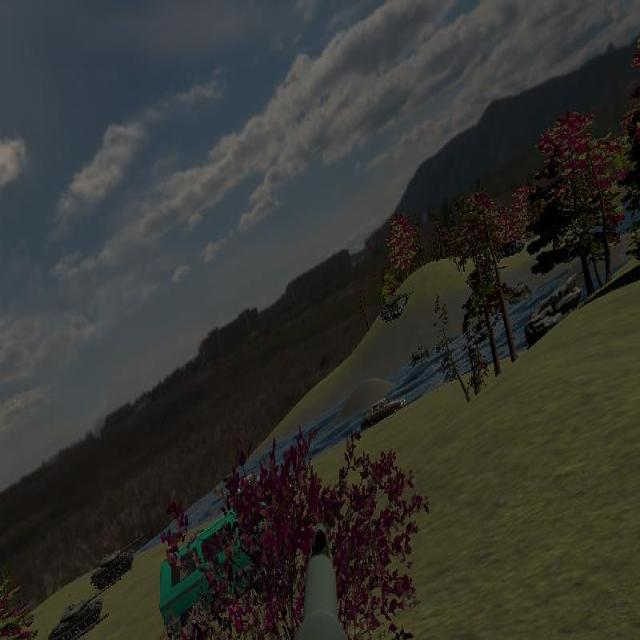Tank: (48, 587, 104, 640), (90, 535, 143, 589), (379, 290, 410, 323)
car: (160, 515, 259, 639)
